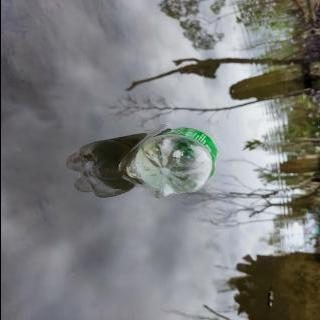bottle: (124, 126, 220, 200)
